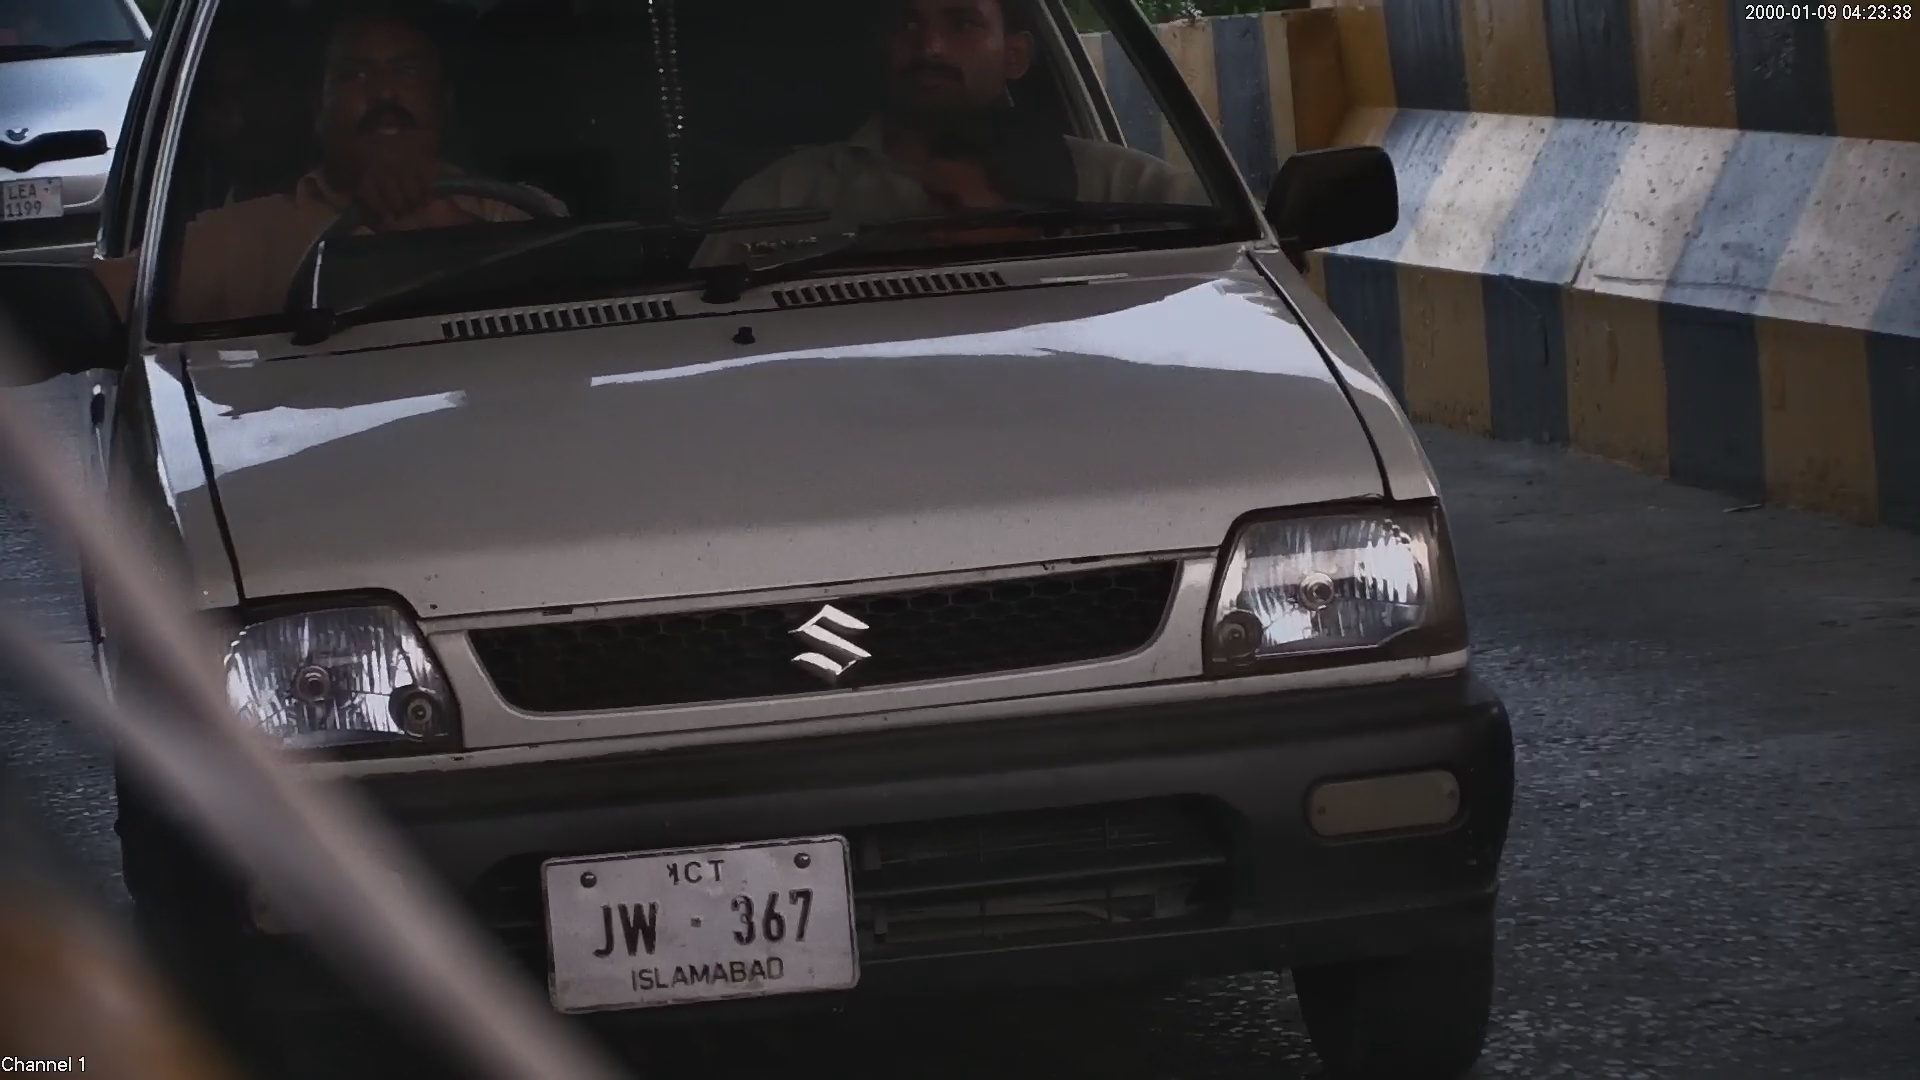Number_Plate: (513, 836, 860, 999)
Undefined: (1219, 501, 1441, 675), (206, 609, 456, 751), (1293, 764, 1469, 831), (771, 590, 869, 679)
